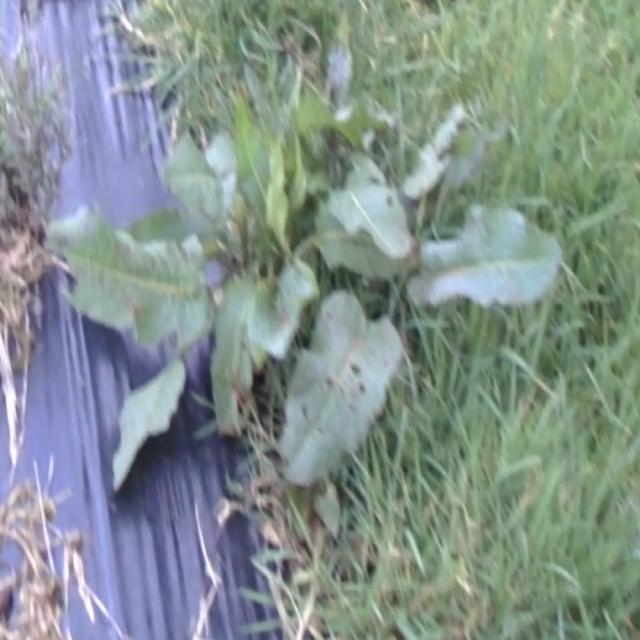organic waste: (55, 63, 580, 474)
